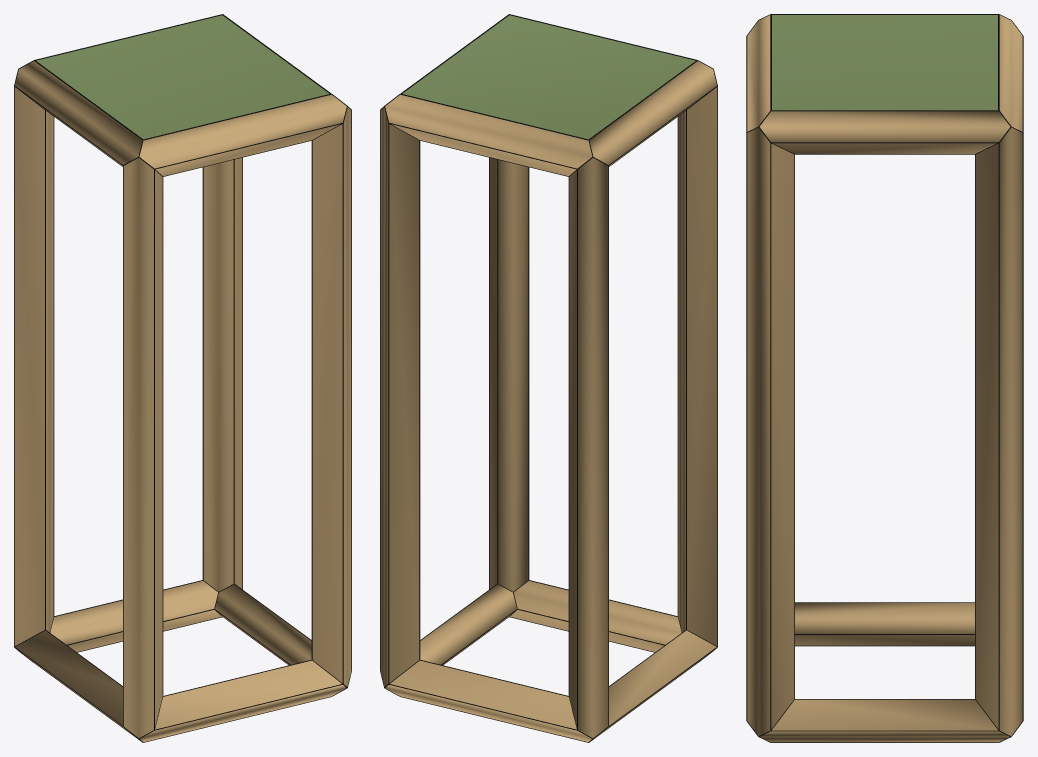
The model's file is console-300.glb.
3 renders of one model, left to right at view 1: azimuth 30°, elevation 25°; view 2: azimuth 150°, elevation 25°; view 3: azimuth 270°, elevation 25°, orthographic. The views are drawn at different scales.
Parts seen in each view (by area): view 1: arete-Z0, arete-Z1, arete-Z2, panneau-dessus_exterieur, arete-Z3, arete-X2, arete-X0, arete-X1, arete-Y2, arete-Y0, arete-Y1, arete-wire-Z1 (+6 smaller); view 2: arete-Z2, arete-Z3, arete-Z0, panneau-dessus_exterieur, arete-Z1, arete-X3, arete-X1, arete-X0, arete-Y2, arete-Y0, arete-Y1, arete-wire-Z3 (+7 smaller); view 3: arete-Z1, arete-Z3, panneau-dessus_exterieur, arete-Y3, arete-Y1, arete-Y0, arete-wire-Z1, arete-wire-Z3, arete-X2, arete-X3, arete-wire-Y3, arete-wire-Y1 (+2 smaller).
Boxes of the visible parts, x1,y1,x2,y2 form: arete-Z0: (123, 158, 162, 737); arete-Z1: (312, 107, 351, 686); arete-Z2: (14, 87, 53, 645); panneau-dessus_exterieur: (36, 15, 329, 139); arete-Z3: (203, 158, 242, 591); arete-X2: (139, 94, 346, 176); arete-X0: (140, 660, 346, 742); arete-X1: (50, 581, 221, 652); arete-Y2: (15, 61, 142, 166); arete-Y0: (15, 630, 135, 736); arete-Y1: (215, 584, 311, 665); arete-wire-Z1: (311, 106, 351, 683); arete-Z2: (569, 158, 608, 737); arete-Z3: (380, 107, 419, 686); arete-Z0: (678, 87, 717, 645); panneau-dessus_exterieur: (402, 15, 695, 139); arete-Z1: (489, 158, 528, 591); arete-X3: (385, 94, 592, 176); arete-X1: (385, 660, 591, 742); arete-X0: (510, 581, 681, 652); arete-Y2: (589, 61, 716, 166); arete-Y0: (596, 630, 716, 736); arete-Y1: (420, 584, 516, 665); arete-wire-Z3: (380, 110, 420, 683); arete-Z1: (747, 127, 794, 735); arete-Z3: (975, 127, 1022, 735); panneau-dessus_exterieur: (772, 15, 997, 110); arete-Y3: (759, 111, 1010, 153); arete-Y1: (760, 699, 1009, 742); arete-Y0: (795, 603, 974, 645); arete-wire-Z1: (746, 127, 794, 730); arete-wire-Z3: (975, 133, 1023, 730); arete-X2: (747, 15, 770, 131); arete-X3: (999, 15, 1022, 131); arete-wire-Y3: (770, 110, 1011, 154); arete-wire-Y1: (758, 699, 1011, 742).
Size of the model in its own units: 0.3296 by 0.8296 by 0.3296.
